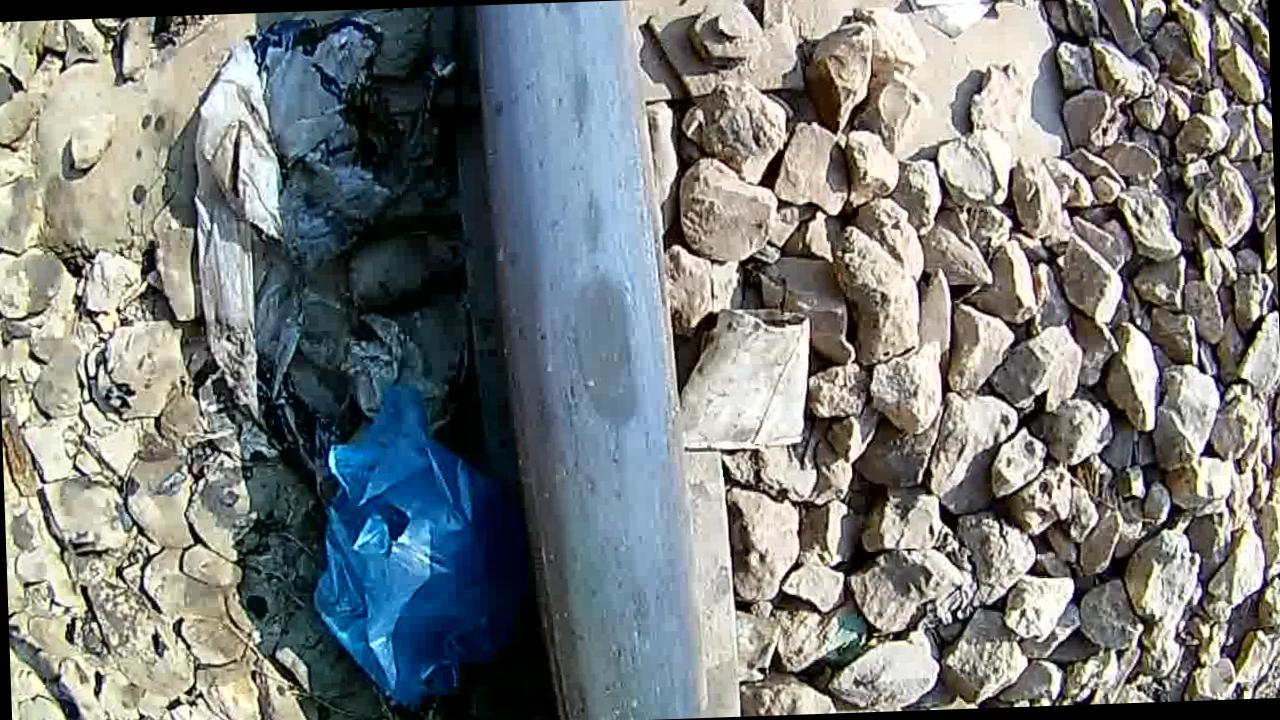bolt_missing: (479, 9, 656, 464)
